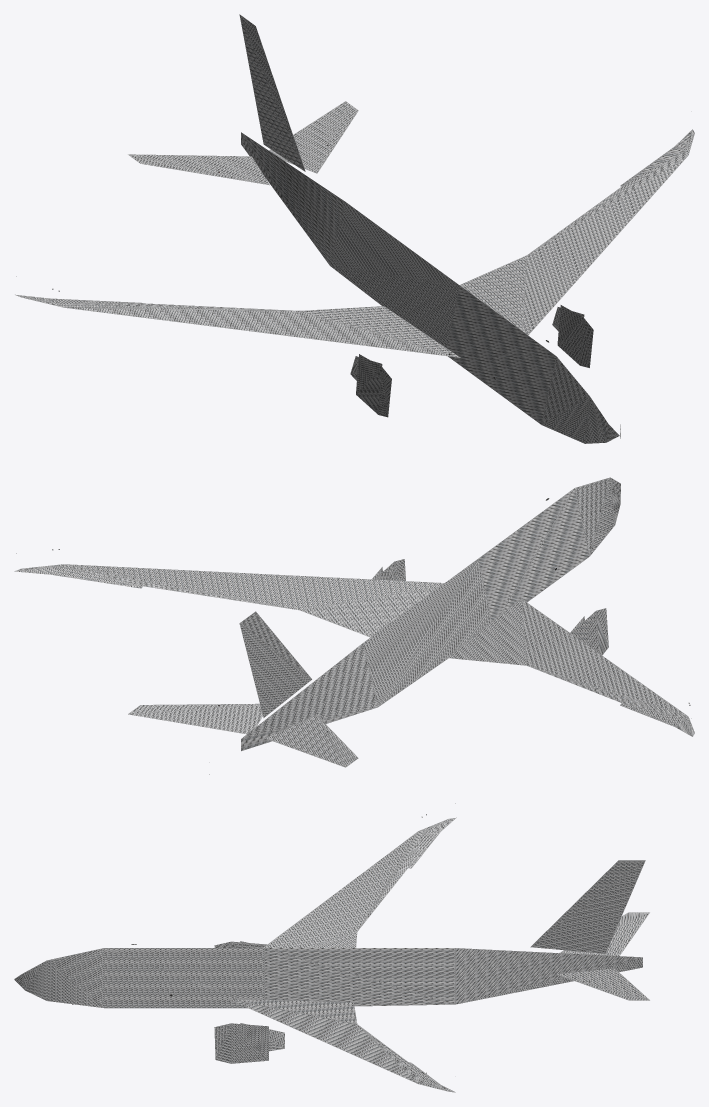
File: TFS_B772LR_LOD1.gltf
The picture shows the model from 3 angles, top to bottom: view 1: azimuth 30°, elevation 25°; view 2: azimuth 150°, elevation 25°; view 3: azimuth 270°, elevation 25°; orthographic projection. The views are drawn at different scales.
Parts seen in each view (by area): view 1: low_poly_model; view 2: low_poly_model; view 3: low_poly_model.
Part boxes in pixels (left/top/right/bottom): low_poly_model: left=15, top=14, right=694, bottom=443; low_poly_model: left=14, top=477, right=694, bottom=767; low_poly_model: left=14, top=817, right=649, bottom=1092.
Bounding box in the file's own units: 65.39 × 17.6 × 68.44.
